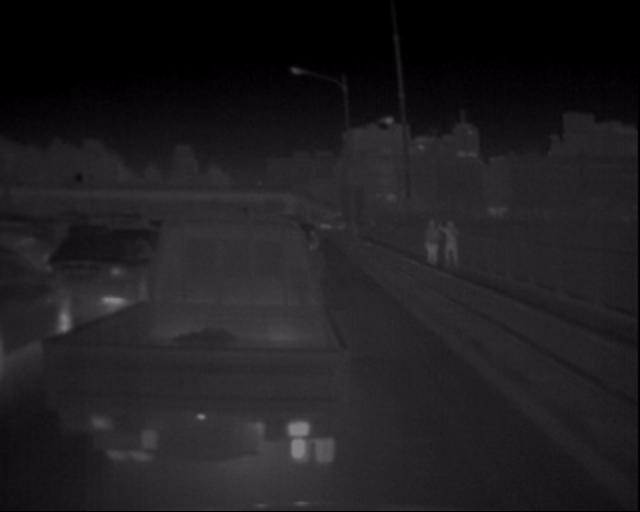person: (441, 216, 462, 272), (420, 214, 441, 265)
